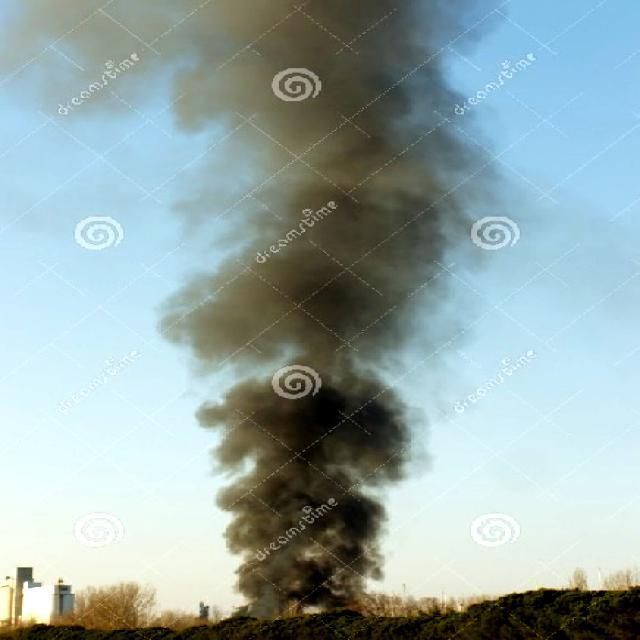Smoke: (73, 0, 479, 574)
